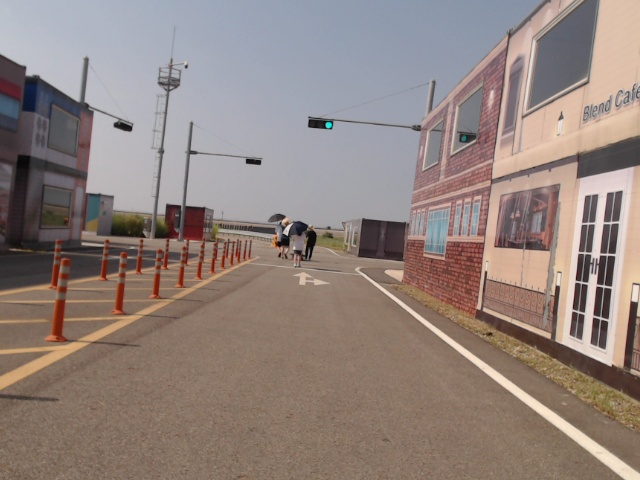green_3: (307, 119, 333, 130)
